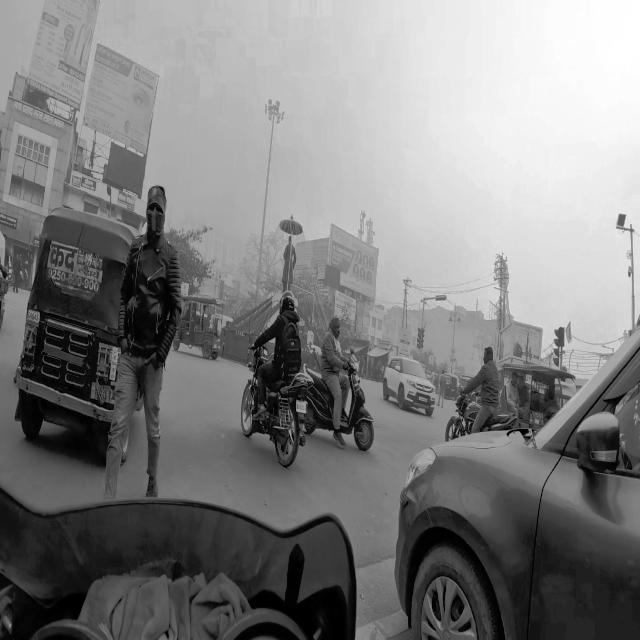Auto-Rickshaw: (21, 192, 169, 474)
Bike: (242, 288, 309, 474), (300, 338, 381, 454), (444, 354, 519, 436)
Car: (392, 296, 640, 634), (380, 354, 439, 421)
Toto: (499, 360, 577, 417), (175, 292, 224, 364)
